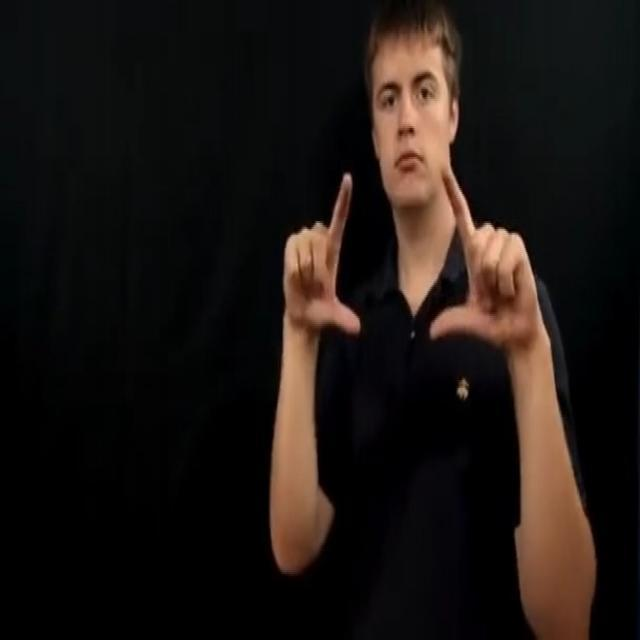bill: (266, 160, 552, 397)
